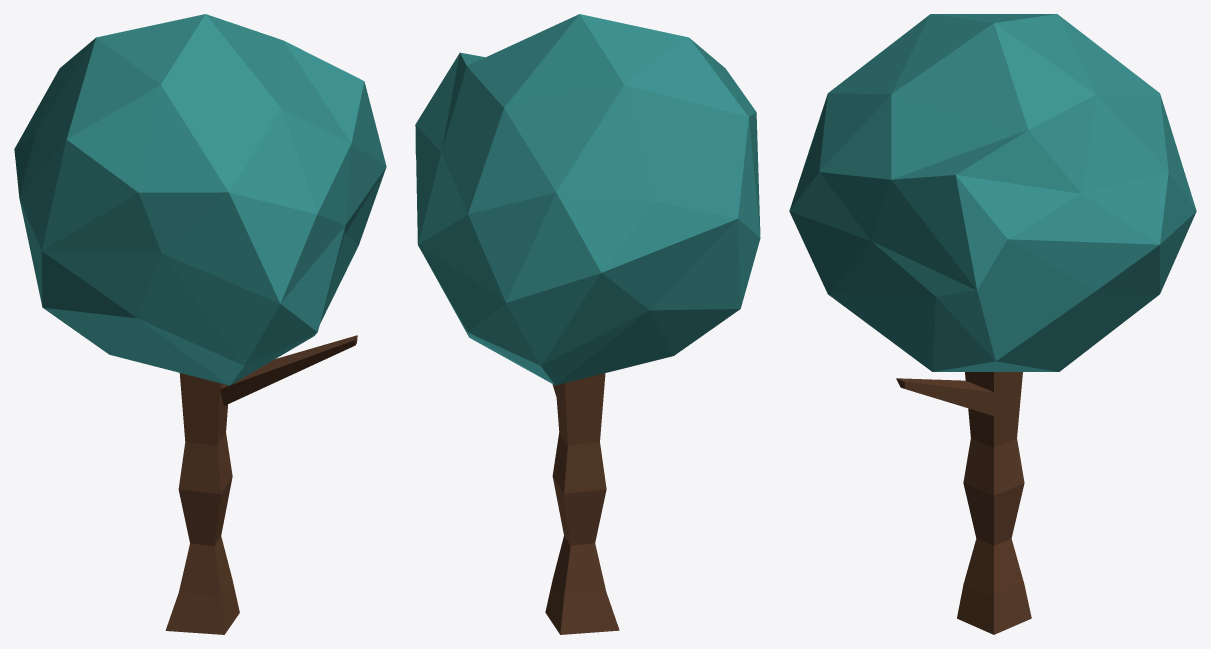
File: Tree_39_Blue.fbx
3 views of the same model, side by side, from view 1: azimuth 30°, elevation 25°; view 2: azimuth 150°, elevation 25°; view 3: azimuth 270°, elevation 25° (orthographic).
Visible parts, largest first — view 1: Tree_39_Blue_Part_1, Tree_39_Blue_Part_2, Tree_39_Blue_Part_3; view 2: Tree_39_Blue_Part_1, Tree_39_Blue_Part_2; view 3: Tree_39_Blue_Part_1, Tree_39_Blue_Part_2, Tree_39_Blue_Part_3.
Part boxes in pixels (bbox=[...]): Tree_39_Blue_Part_1: bbox=[14, 14, 386, 385]; Tree_39_Blue_Part_2: bbox=[165, 373, 239, 634]; Tree_39_Blue_Part_3: bbox=[220, 335, 357, 405]; Tree_39_Blue_Part_1: bbox=[415, 14, 760, 385]; Tree_39_Blue_Part_2: bbox=[545, 373, 619, 634]; Tree_39_Blue_Part_1: bbox=[789, 14, 1196, 371]; Tree_39_Blue_Part_2: bbox=[957, 372, 1031, 634]; Tree_39_Blue_Part_3: bbox=[896, 378, 993, 415].
Bounding box in the file's own units: 474 × 798 × 495.
